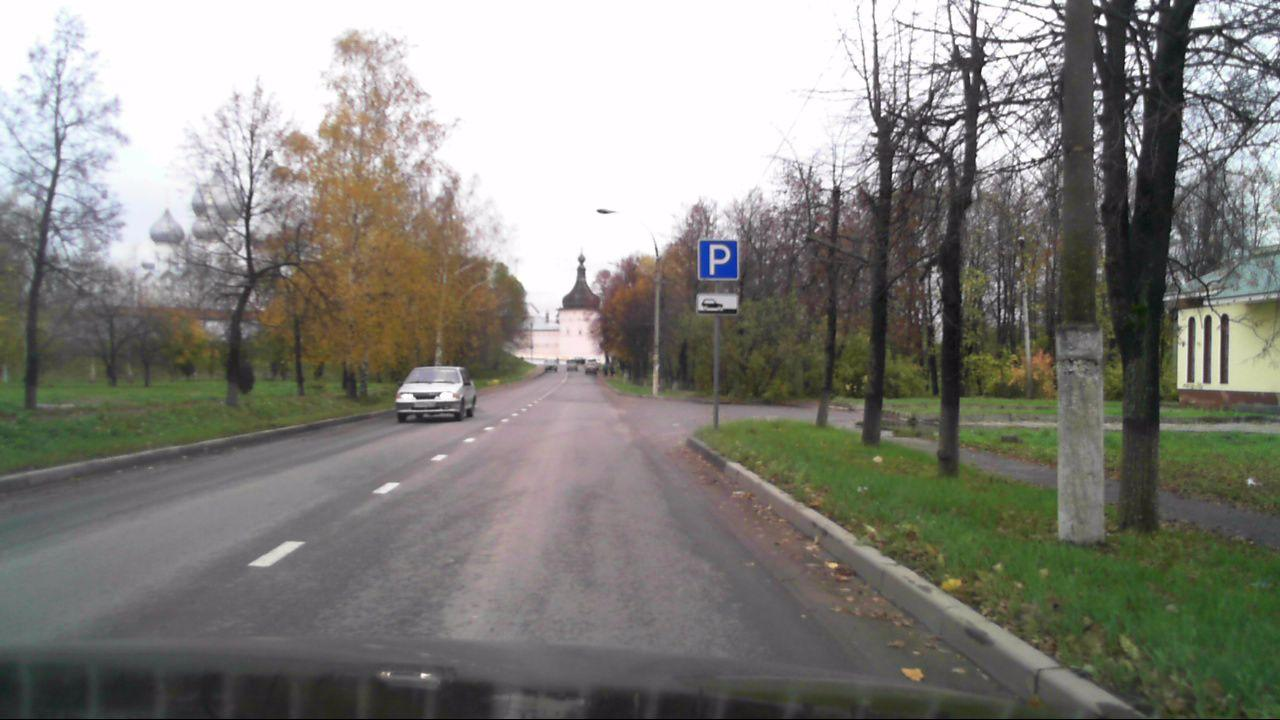6_4: (697, 237, 741, 281)
8_6_5: (697, 293, 739, 313)
